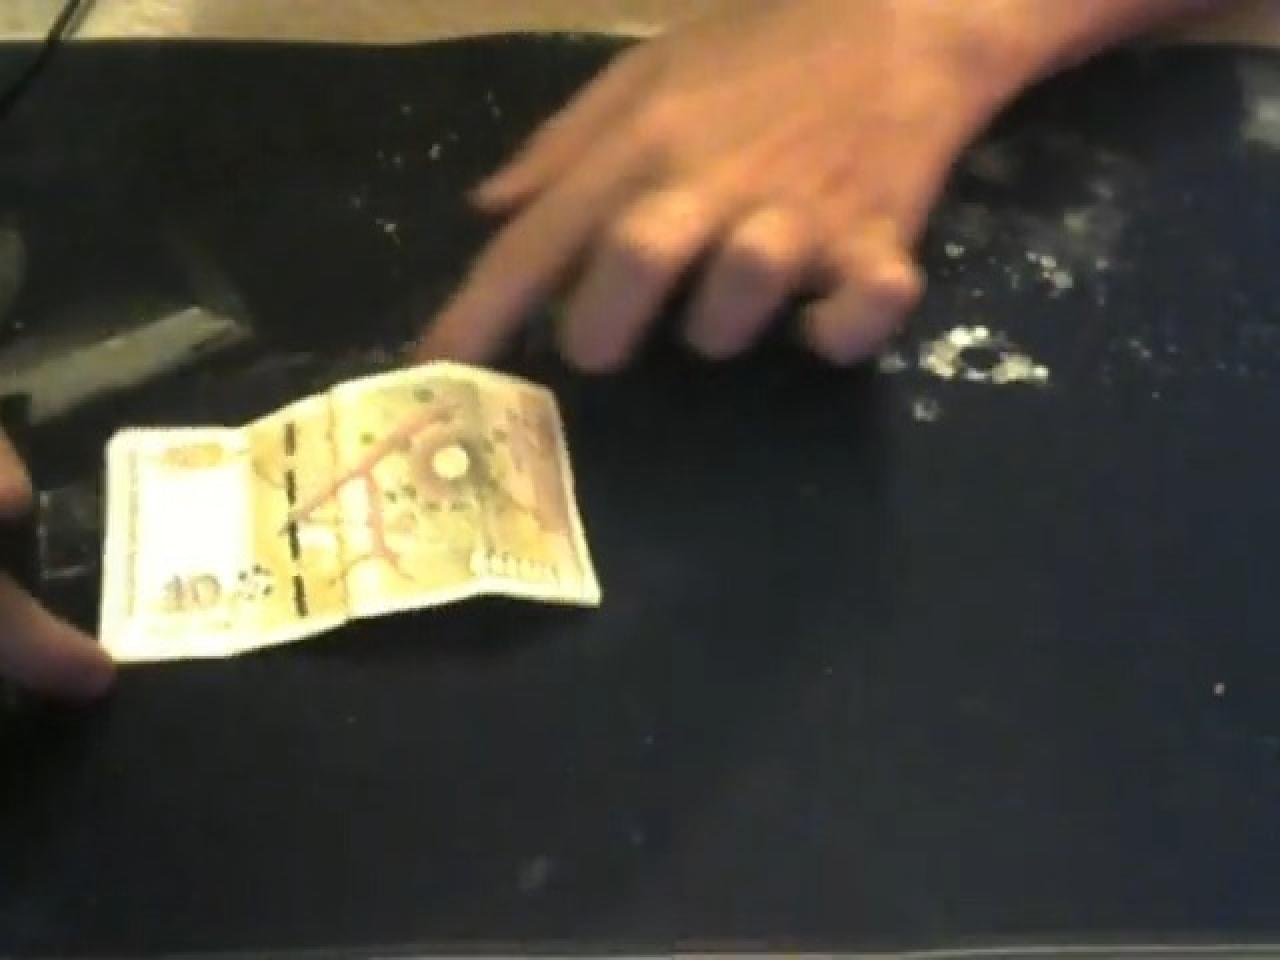10leva: (96, 363, 600, 667)
